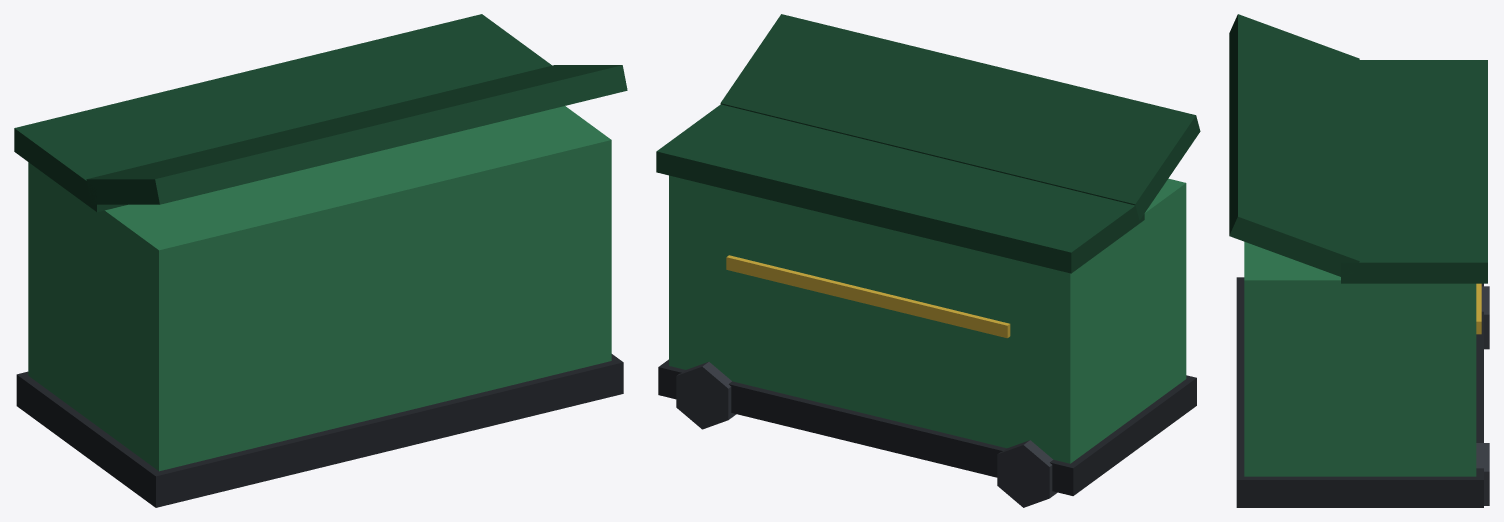
File: Scatter_Dumpster.fbx
3 renders of one model, left to right at view 1: azimuth 30°, elevation 25°; view 2: azimuth 150°, elevation 25°; view 3: azimuth 270°, elevation 25°, orthographic. The views are drawn at different scales.
Parts seen in each view (by area): view 1: Dumpster; view 2: Dumpster; view 3: Dumpster.
Part boxes in pixels (<box>): Dumpster: <box>14,14,627,507</box>; Dumpster: <box>656,14,1200,507</box>; Dumpster: <box>1229,14,1489,507</box>.
Size of the model in its own units: 6.2 by 4.46 by 3.37.
